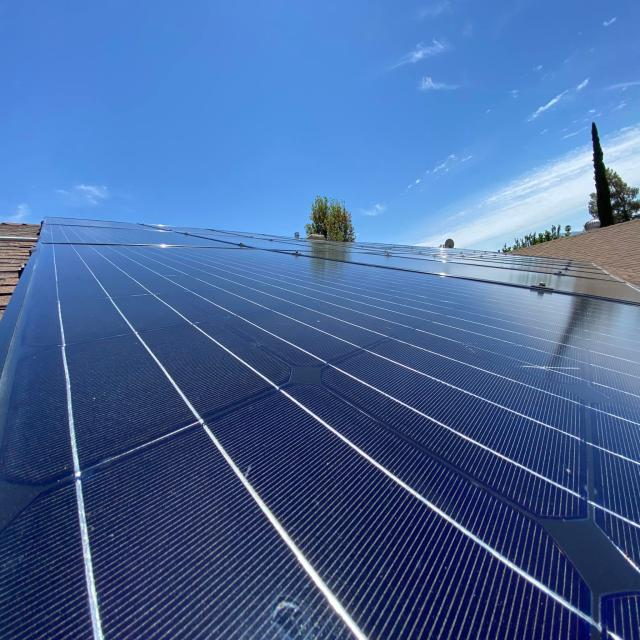clean-solar-panel: (0, 218, 640, 638)
